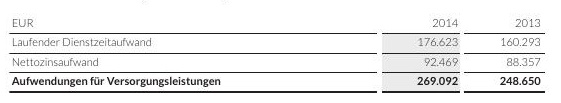table: (0, 0, 561, 103)
